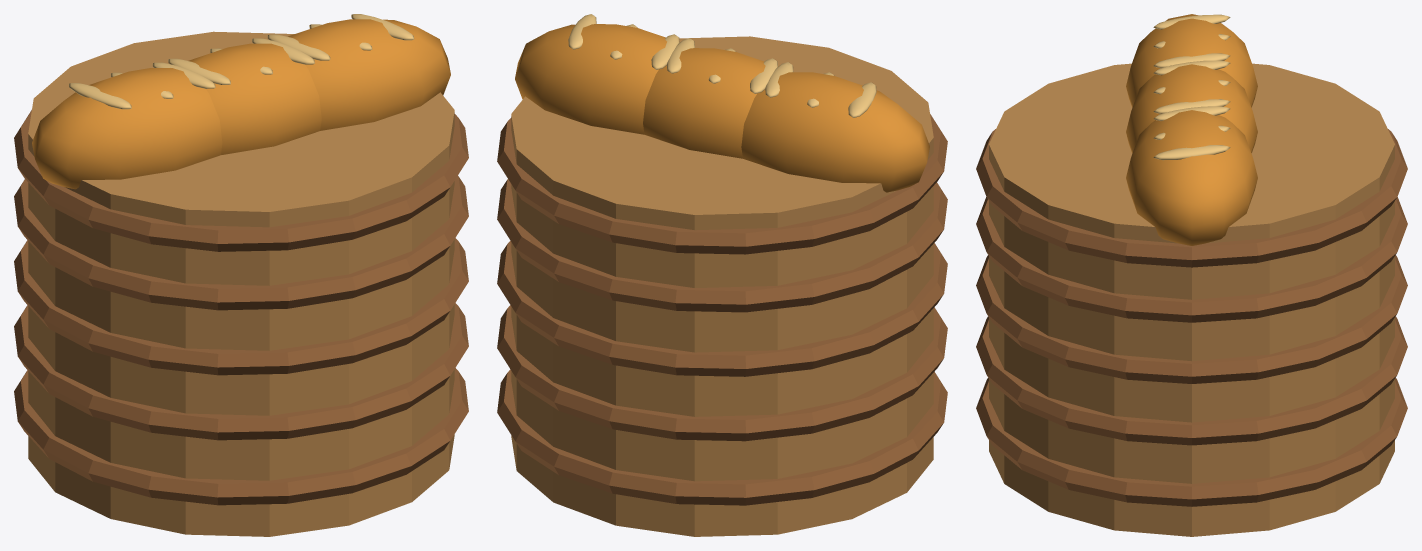
File: carry.glb
3 views of the same model, side by side, from view 1: azimuth 30°, elevation 25°; view 2: azimuth 150°, elevation 25°; view 3: azimuth 270°, elevation 25° (orthographic). The views are drawn at different scales.
Parts seen in each view (by area): view 1: Woven bread basket.001, Golden hand-scored bread.015, Basket weave.006, Basket weave.007, Basket weave.005, Basket weave.008, Basket weave.009, Golden hand-scored bread.017, Golden hand-scored bread.016, Cream baked score.045, Cream baked score.051, Cream baked score.048; view 2: Woven bread basket.001, Golden hand-scored bread.015, Basket weave.007, Basket weave.005, Basket weave.006, Basket weave.008, Basket weave.009, Golden hand-scored bread.017, Golden hand-scored bread.016, Cream baked score.045; view 3: Woven bread basket.001, Golden hand-scored bread.017, Basket weave.009, Basket weave.007, Basket weave.005, Basket weave.006, Basket weave.008, Golden hand-scored bread.015, Golden hand-scored bread.016, Cream baked score.053, Cream baked score.047, Cream baked score.050.
Boxes of the visible parts, x1,y1,x2,y2 form: Woven bread basket.001: (28,31,454,536); Golden hand-scored bread.015: (32,68,222,189); Basket weave.006: (14,303,468,440); Basket weave.007: (14,238,468,375); Basket weave.005: (14,368,468,505); Basket weave.008: (14,176,468,310); Basket weave.009: (14,110,468,251); Golden hand-scored bread.017: (288,19,450,130); Golden hand-scored bread.016: (188,43,321,154); Cream baked score.045: (68,83,131,109); Cream baked score.051: (267,34,330,60); Cream baked score.048: (168,58,230,84); Woven bread basket.001: (511,36,933,536); Golden hand-scored bread.015: (741,72,929,192); Basket weave.007: (497,241,947,376); Basket weave.005: (497,369,947,505); Basket weave.006: (497,305,947,441); Basket weave.008: (497,179,947,312); Basket weave.009: (497,114,947,254); Golden hand-scored bread.017: (515,24,666,134); Golden hand-scored bread.016: (643,48,778,158); Cream baked score.045: (848,82,876,117); Woven bread basket.001: (989,63,1394,536); Golden hand-scored bread.017: (1126,110,1257,245); Basket weave.009: (976,129,1407,267); Basket weave.007: (976,255,1407,383); Basket weave.005: (976,378,1407,506); Basket weave.006: (976,316,1407,445); Basket weave.008: (976,197,1407,322); Golden hand-scored bread.015: (1126,14,1257,107); Golden hand-scored bread.016: (1126,64,1257,152); Cream baked score.053: (1153,145,1230,160); Cream baked score.047: (1153,53,1230,68); Cream baked score.050: (1153,99,1230,113).
Size of the model in its own units: 0.4322 by 0.3941 by 0.4147.
